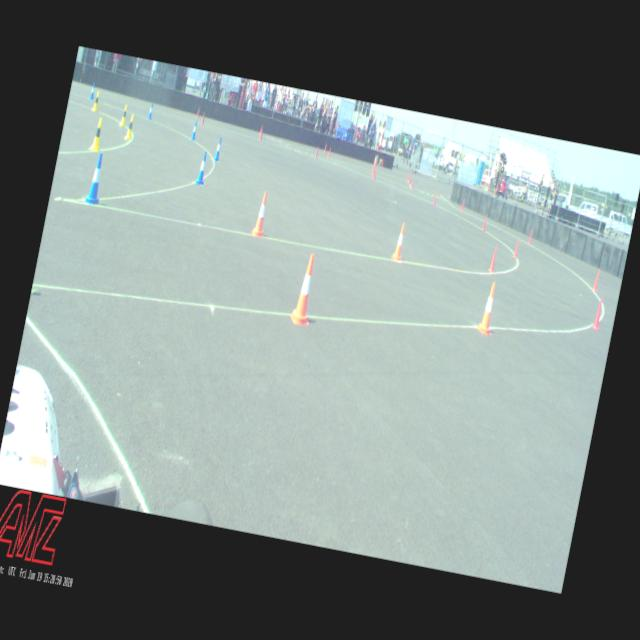blue_cone: (84, 152, 109, 204), (195, 151, 210, 186), (213, 138, 223, 162), (191, 120, 199, 140), (147, 103, 154, 120), (90, 82, 96, 100)
orange_cone: (289, 252, 322, 327), (476, 280, 501, 336), (251, 191, 271, 237), (391, 222, 408, 260)
yellow_cone: (90, 117, 106, 152), (125, 114, 136, 141), (119, 104, 129, 126), (92, 91, 100, 112)
